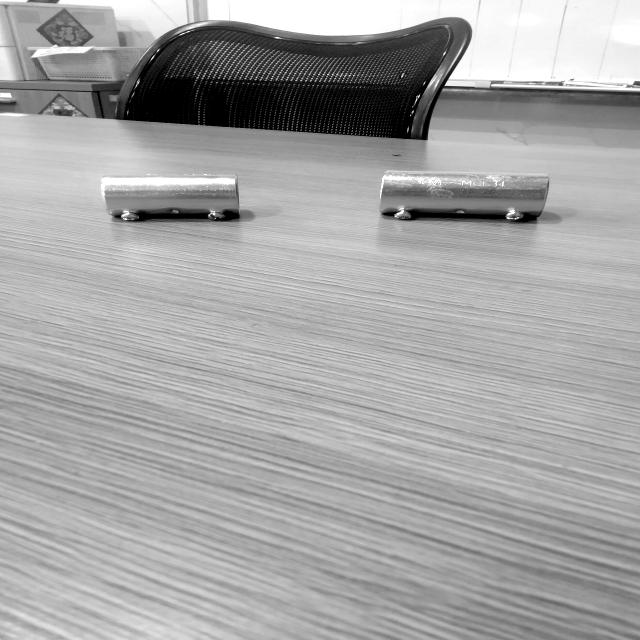Co_Lon: (380, 170, 549, 222)
Co_Nho: (101, 174, 240, 222)
